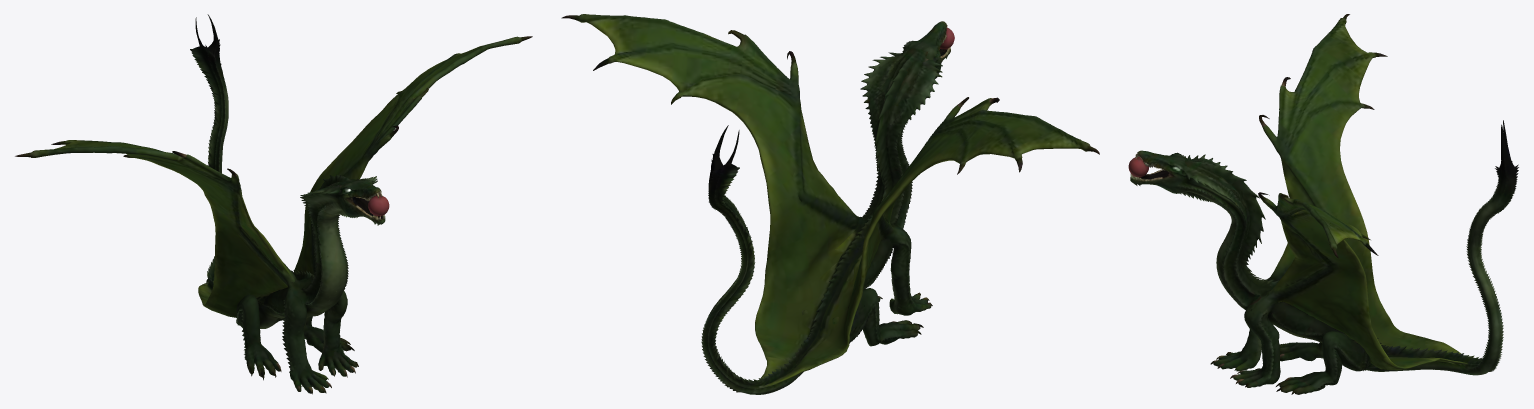
The model's file is MZ4250 - Young Green Dragon_2025.glb.
The picture shows the model from 3 angles, left to right: view 1: azimuth 30°, elevation 25°; view 2: azimuth 150°, elevation 25°; view 3: azimuth 270°, elevation 25°; orthographic projection. The views are drawn at different scales.
Visible parts, largest first — view 1: ORGANIC BASE SPHERE.001; view 2: ORGANIC BASE SPHERE.001; view 3: ORGANIC BASE SPHERE.001.
Part boxes in pixels (<box>): ORGANIC BASE SPHERE.001: <box>15,14,532,394</box>; ORGANIC BASE SPHERE.001: <box>561,14,1099,394</box>; ORGANIC BASE SPHERE.001: <box>1128,14,1518,394</box>.
Size of the model in its own units: 138 by 68.23 by 93.89.
1 material, 1 textured.
